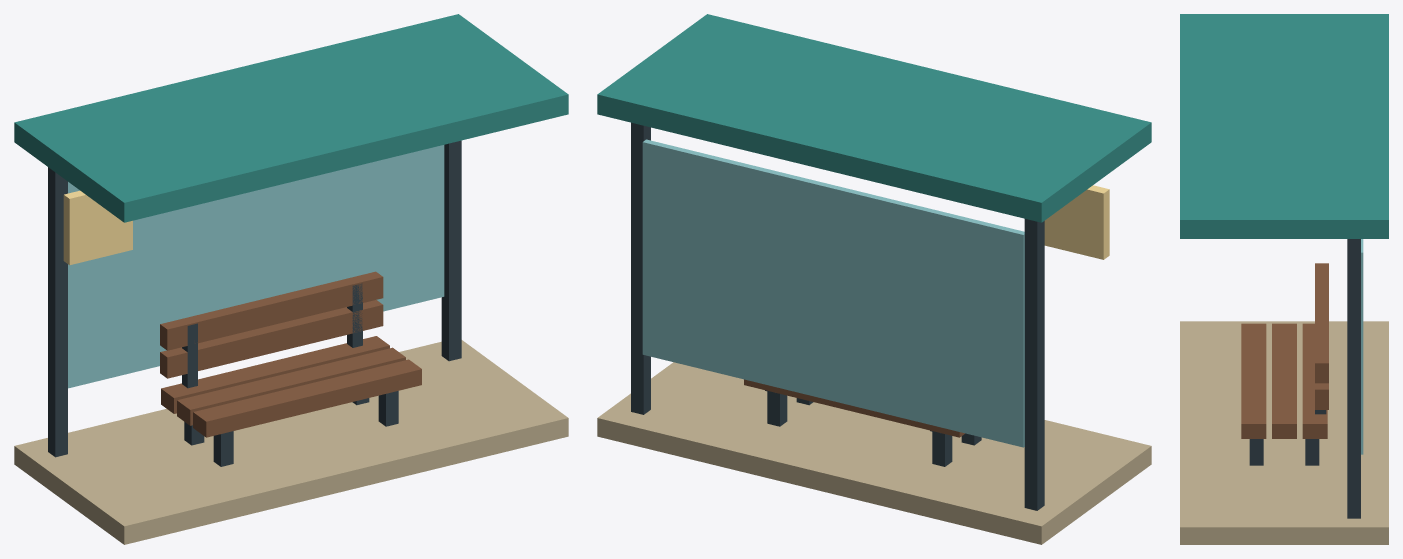
The model's file is bus_stop.glb.
3 renders of one model, left to right at view 1: azimuth 30°, elevation 25°; view 2: azimuth 150°, elevation 25°; view 3: azimuth 270°, elevation 25°, orthographic. The views are drawn at different scales.
Parts seen in each view (by area): view 1: shelter_roof, pad, rear_glass, seat, back_slat.001, back_slat, post, post.001, seat.001, bus_sign, seat.002, back_support (+3 smaller); view 2: rear_glass, shelter_roof, pad, post, post.001, bus_sign, seat.002, leg.001, leg.003; view 3: shelter_roof, pad, post.001, seat, seat.001, seat.002, back_slat.001, rear_glass, leg.002, leg.003, back_slat.
Boxes of the visible parts, x1,y1,x2,y2 form: shelter_roof: (14,14,568,222); pad: (14,340,568,544); rear_glass: (68,145,444,388); seat: (193,359,421,437); back_slat.001: (160,271,383,350); back_slat: (160,300,383,378); post: (48,167,67,457); post.001: (441,140,461,361); seat.001: (177,347,405,425); bus_sign: (63,190,132,265); seat.002: (161,336,389,413); back_support: (182,323,197,388); rear_glass: (642,139,1024,447); shelter_roof: (597,14,1151,222); pad: (597,362,1151,544); post: (1024,219,1044,510); post.001: (631,122,650,414); bus_sign: (1044,185,1109,259); seat.002: (744,379,964,437); leg.001: (932,431,952,466); leg.003: (767,391,787,426); shelter_roof: (1180,14,1388,238); pad: (1180,321,1388,544); post.001: (1347,239,1360,518); seat: (1241,323,1266,438); seat.001: (1272,323,1296,438); seat.002: (1302,323,1327,438); back_slat.001: (1315,263,1328,383); rear_glass: (1361,239,1363,454); leg.002: (1249,439,1263,465); leg.003: (1305,439,1319,465); back_slat: (1315,383,1328,409).
Bounding box in the file's own units: 3.55 × 2.58 × 1.5.
